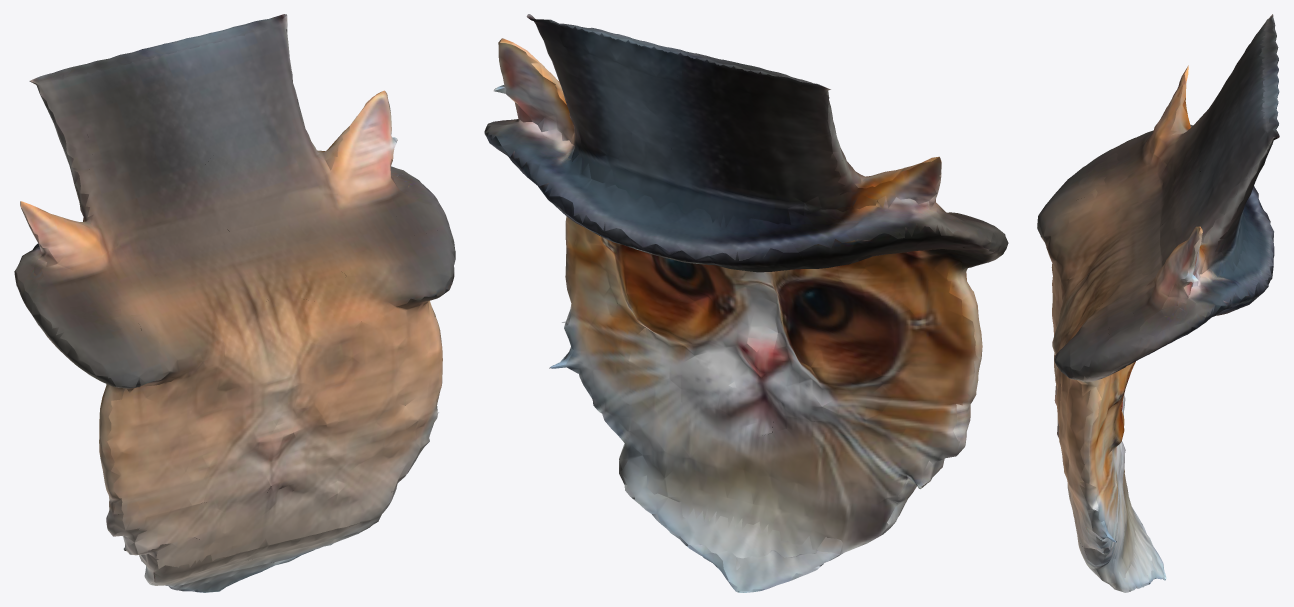
Rendered from a cat with a top hat and cool .glb.
The picture shows the model from 3 angles, left to right: view 1: azimuth 30°, elevation 25°; view 2: azimuth 150°, elevation 25°; view 3: azimuth 270°, elevation 25°; orthographic projection. The views are drawn at different scales.
Visible parts, largest first — view 1: world; view 2: world; view 3: world.
Boxes of the visible parts, bbox=[...] form: world: bbox=[14, 14, 455, 592]; world: bbox=[484, 14, 1008, 592]; world: bbox=[1037, 14, 1279, 592].
Bounding box in the file's own units: 0.8015 × 0.9311 × 0.407.
1 material, 1 textured.
